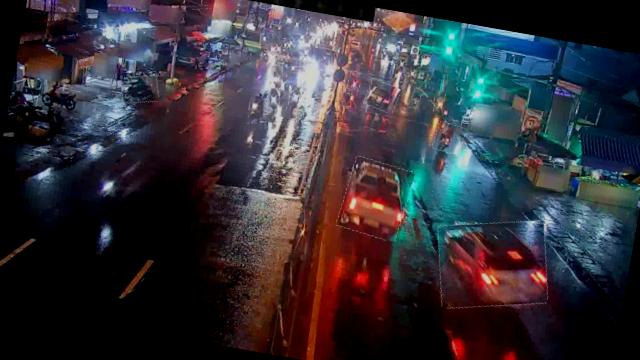Bike: (36, 84, 82, 118), (119, 72, 161, 107), (432, 121, 467, 156), (263, 80, 284, 115), (248, 88, 268, 120), (286, 84, 302, 115), (268, 64, 284, 90), (346, 70, 362, 95), (433, 90, 446, 112), (409, 88, 422, 110)
Car: (429, 209, 557, 320), (337, 156, 414, 242), (364, 78, 401, 112)
